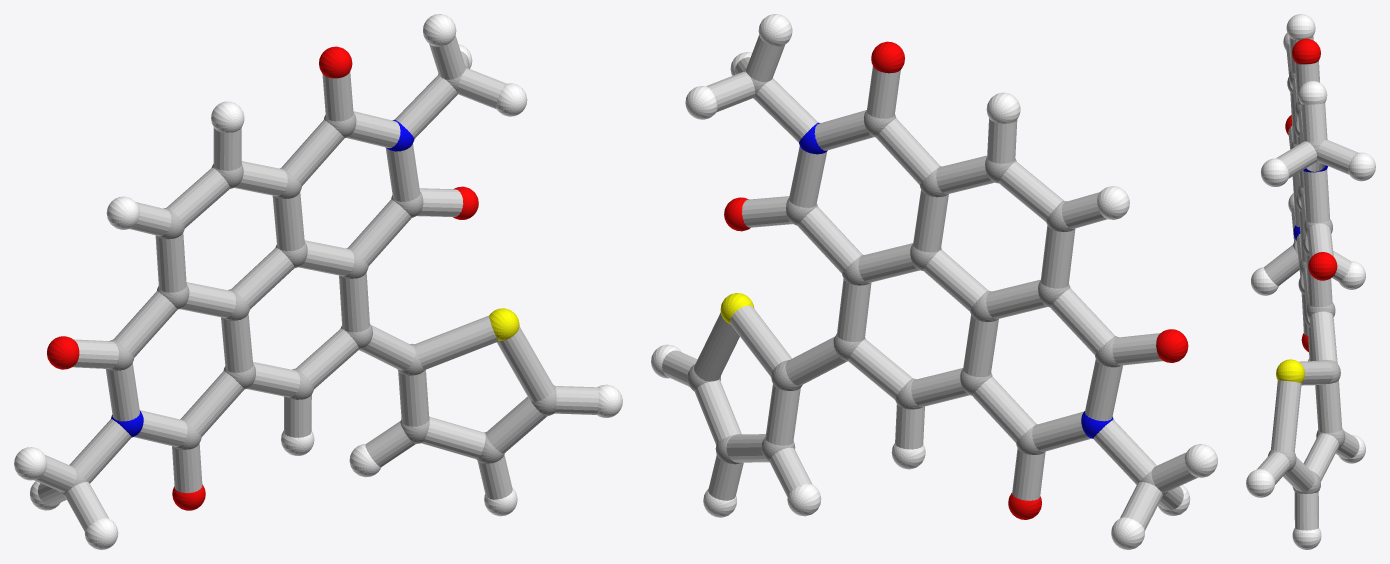
Rendered from Dimethyl_Naphthalene_Dicarboximide_Phi_20_Theta_200_Thiophene.glb.
The picture shows the model from 3 angles, left to right: view 1: azimuth 30°, elevation 25°; view 2: azimuth 150°, elevation 25°; view 3: azimuth 270°, elevation 25°; orthographic projection. The views are drawn at different scales.
Visible parts, largest first — view 1: grp14119, grp7241, grp1, grp12309, grp13757, grp11585; view 2: grp14119, grp7241, grp1, grp12309, grp11585; view 3: grp14119, grp7241, grp1, grp12309, grp13757.
Boxes of the visible parts, x1,y1,x2,y2 form: grp14119: [34, 36, 598, 531]; grp7241: [14, 14, 622, 549]; grp1: [59, 66, 556, 496]; grp12309: [47, 46, 478, 510]; grp13757: [489, 308, 519, 340]; grp11585: [111, 119, 414, 437]; grp14119: [662, 35, 1197, 530]; grp7241: [651, 14, 1217, 549]; grp1: [687, 68, 1167, 496]; grp12309: [724, 41, 1188, 519]; grp11585: [799, 122, 1113, 438]; grp14119: [1257, 36, 1359, 530]; grp7241: [1246, 14, 1375, 549]; grp1: [1267, 70, 1345, 493]; grp12309: [1285, 38, 1337, 352]; grp13757: [1276, 359, 1304, 382].
Size of the model in its own units: 11.99 by 10.09 by 2.69.
